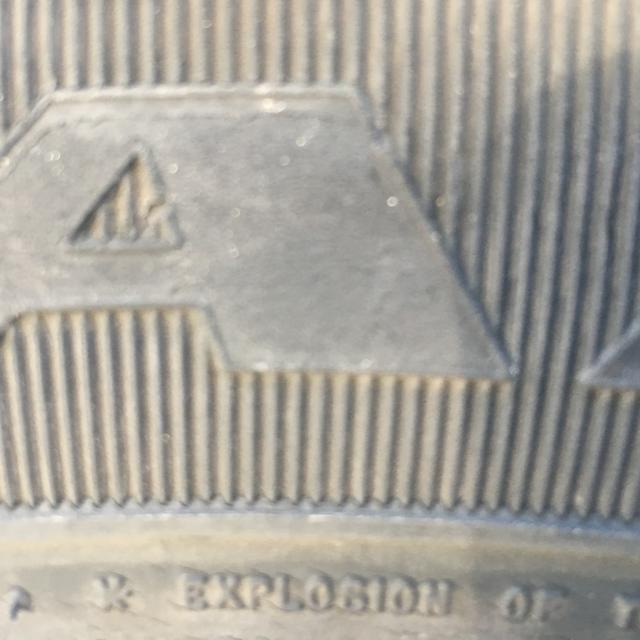Cracks: (124, 188, 169, 253)
Non-defective: (0, 261, 640, 640), (0, 0, 640, 175)
